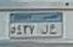1: (17, 25, 22, 34)
2: (23, 24, 29, 34)
5: (10, 25, 15, 34)
7: (29, 24, 36, 34)
ain: (49, 23, 56, 35)
laam: (42, 24, 48, 35)
